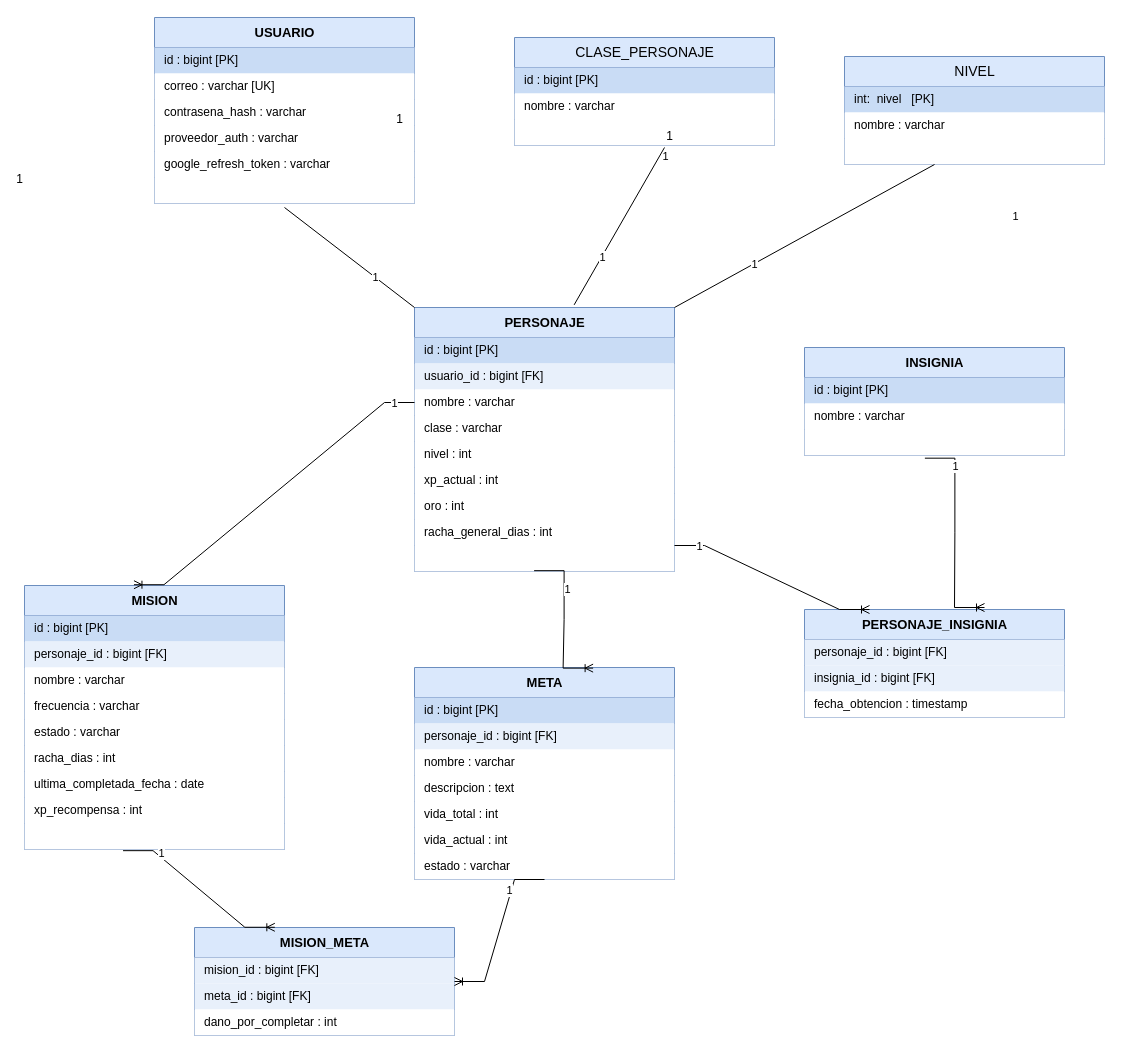
Image size: 1123x1053. Some labels were removed from this diagram. The centre of each missing label's shape, as x and y in pixels:
"condicion : varchar" belongs at (934,442).
"descripcion : varchar" belongs at (644,132).
"int: exp_requerido" belongs at (974,151).
"oro_recompensa : int" belongs at (154,836).
"rol : varchar" belongs at (284,190).
"ultima_actividad_fecha : date" belongs at (544,558).
